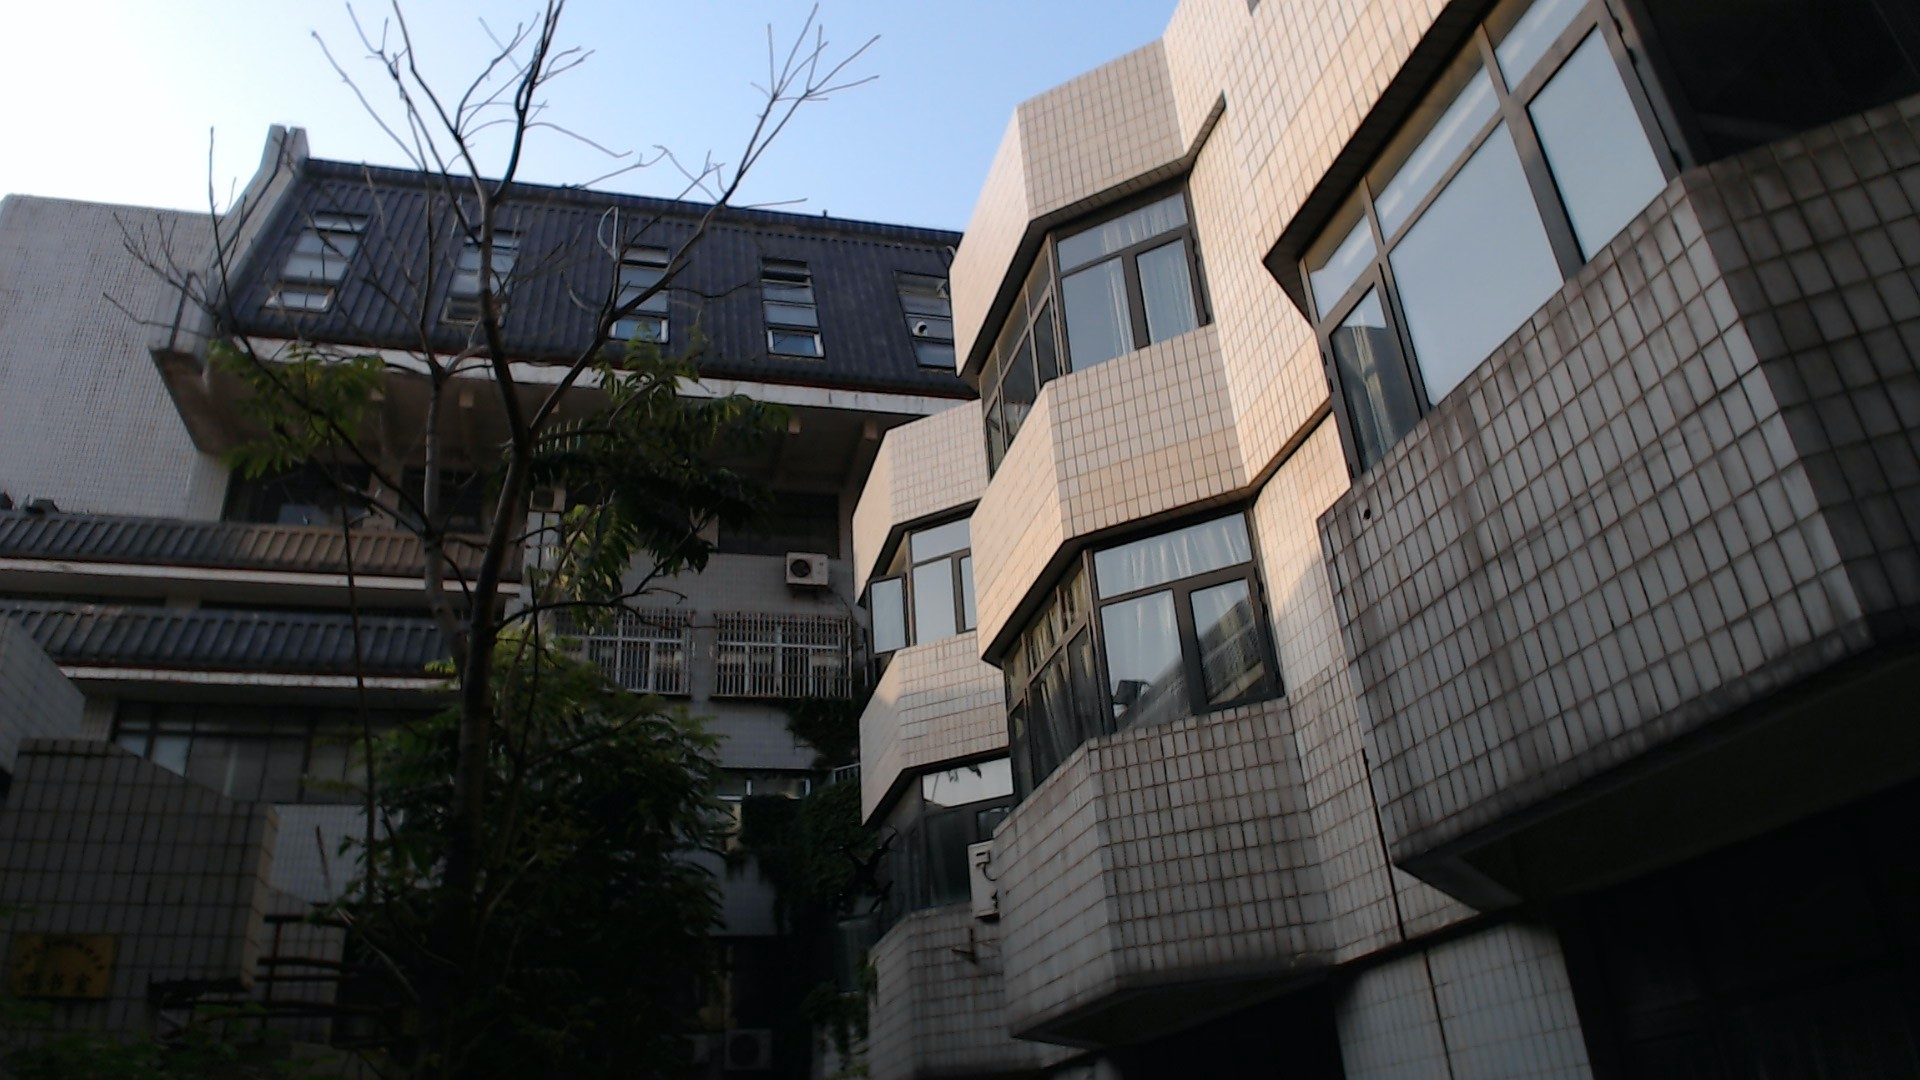drone: (791, 793, 935, 936)
